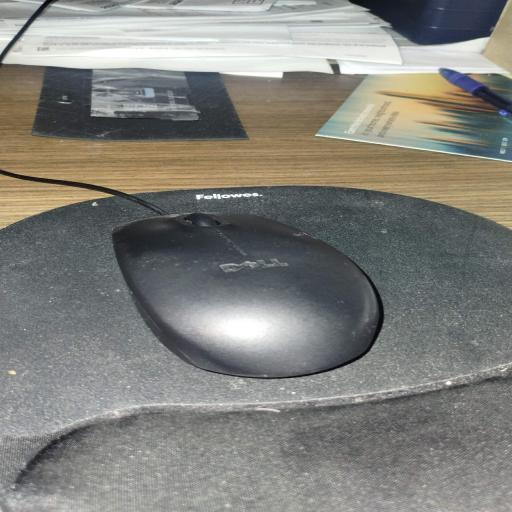mouse: (113, 213, 381, 377)
pen: (439, 68, 511, 116)
